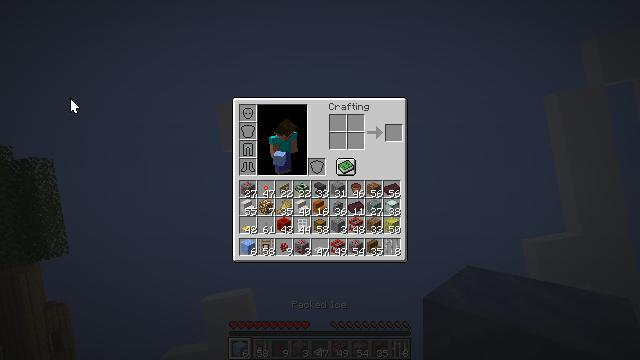cursor: (98, 70, 114, 80)
